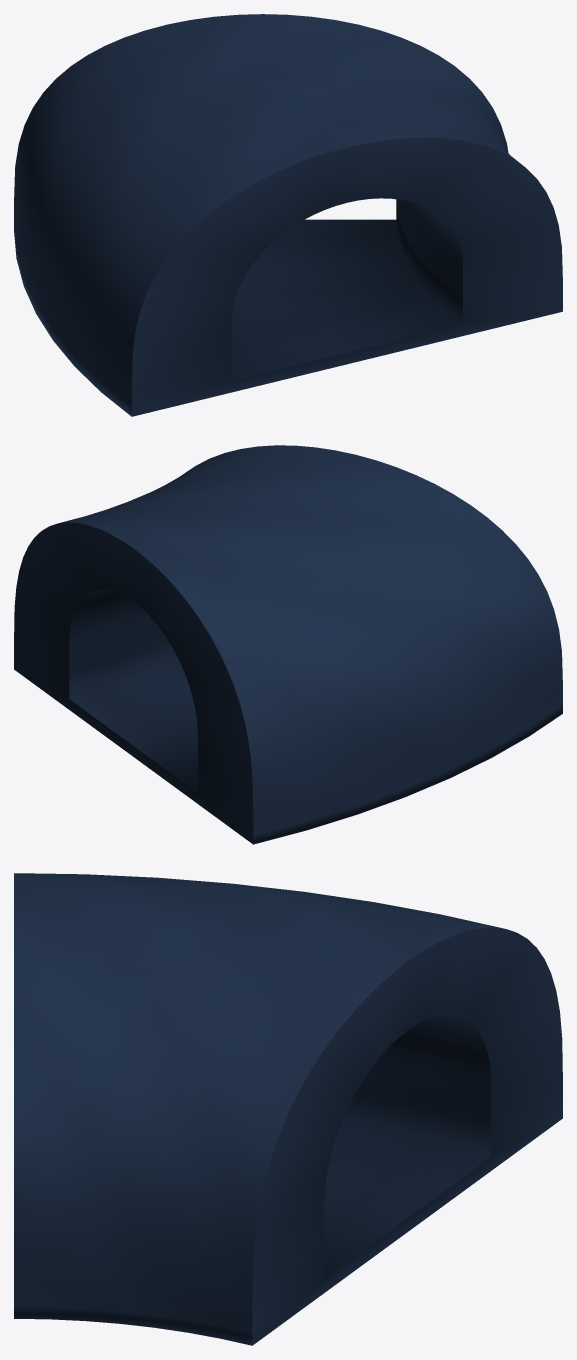
File: curve_right_30_terrain_lod1.glb
3 renders of one model, top to bottom at view 1: azimuth 30°, elevation 25°; view 2: azimuth 150°, elevation 25°; view 3: azimuth 270°, elevation 25°, orthographic. The views are drawn at different scales.
Visible parts, largest first — view 1: TerrainRoof.009; view 2: TerrainRoof.009; view 3: TerrainRoof.009.
Part boxes in pixels (box(x1,y1,x2,y2)): TerrainRoof.009: box(14, 14, 562, 416); TerrainRoof.009: box(14, 445, 562, 844); TerrainRoof.009: box(14, 873, 562, 1345).
Size of the model in its own units: 31.32 by 13.65 by 25.1.
